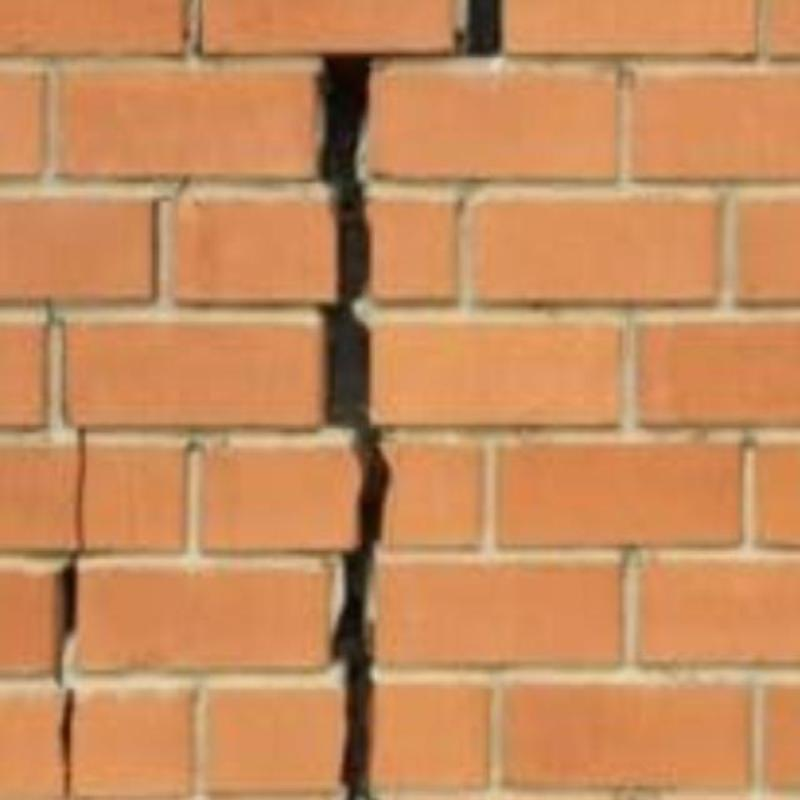crack: (323, 58, 388, 799), (54, 426, 85, 799), (466, 0, 498, 53)
